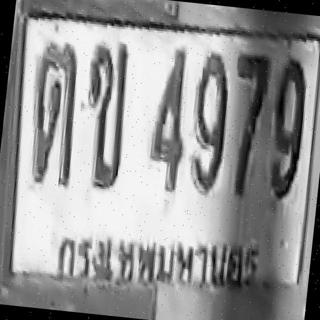N04: (144, 44, 194, 194)
N07: (224, 50, 271, 189)
N09: (185, 51, 233, 196), (264, 56, 310, 200)
P04: (48, 214, 272, 296)
